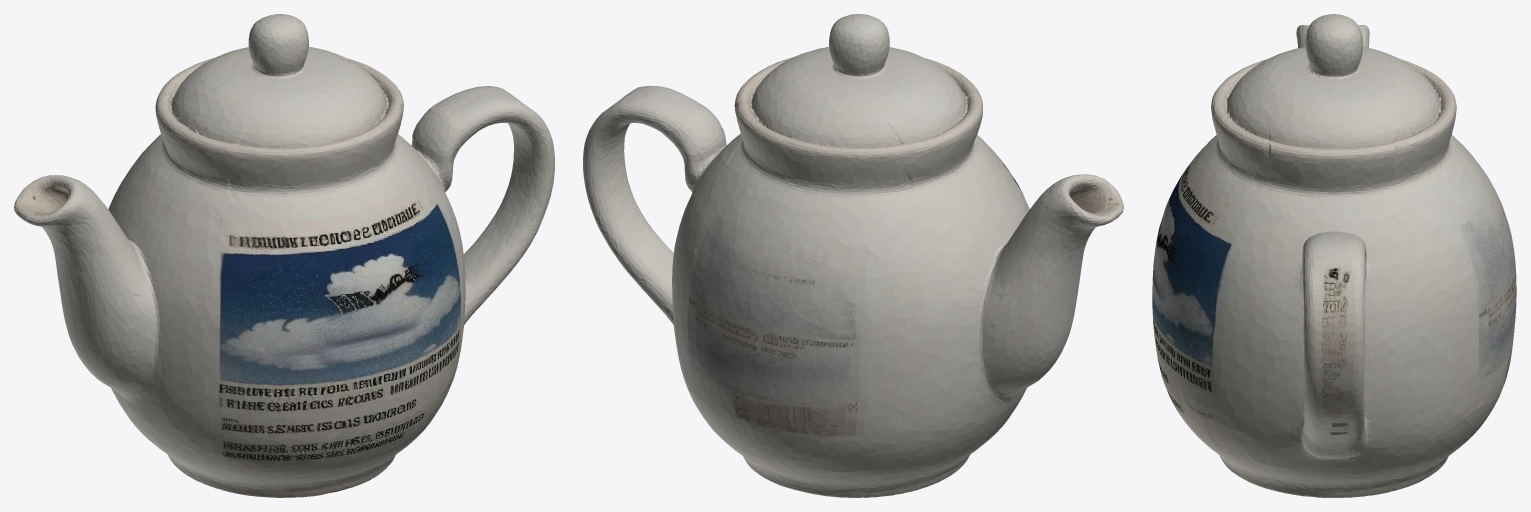
File: chest (80).glb
The picture shows the model from 3 angles, left to right: view 1: azimuth 30°, elevation 25°; view 2: azimuth 150°, elevation 25°; view 3: azimuth 270°, elevation 25°; orthographic projection.
Visible parts, largest first — view 1: Hy21_Mesh.obj; view 2: Hy21_Mesh.obj; view 3: Hy21_Mesh.obj.
Boxes of the visible parts, left/top/right/bottom form: Hy21_Mesh.obj: left=14, top=14, right=554, bottom=497; Hy21_Mesh.obj: left=583, top=14, right=1123, bottom=497; Hy21_Mesh.obj: left=1152, top=14, right=1516, bottom=497.
Bounding box in the file's own units: 1.95 × 1.54 × 1.18.
1 material, 1 textured.
